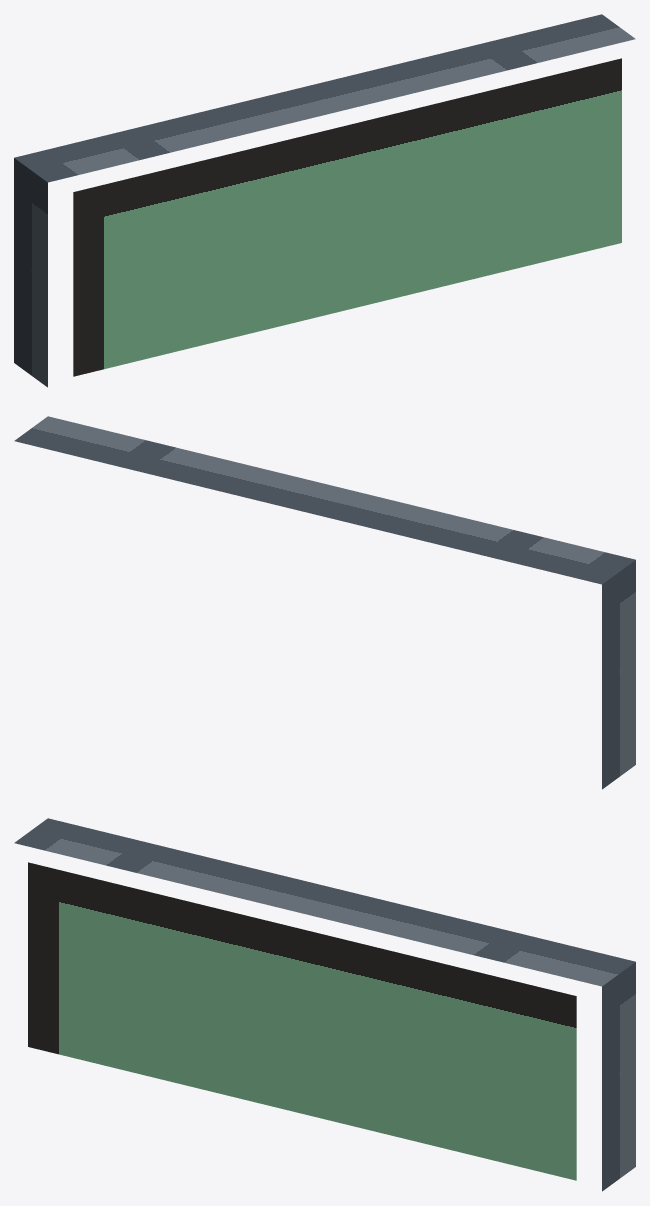
Rendered from exit_sign.glb.
3 views of the same model, one above another, from view 1: azimuth 30°, elevation 25°; view 2: azimuth 150°, elevation 25°; view 3: azimuth 330°, elevation 25° (orthographic).
Visible parts, largest first — view 1: exit_sign mesh; view 2: exit_sign mesh; view 3: exit_sign mesh.
Boxes of the visible parts, x1,y1,x2,y2 form: exit_sign mesh: [14, 14, 635, 387]; exit_sign mesh: [14, 416, 635, 789]; exit_sign mesh: [14, 818, 635, 1191].
Size of the model in its own units: 0.6 by 0.2 by 0.07.
2 materials, 2 textured.
